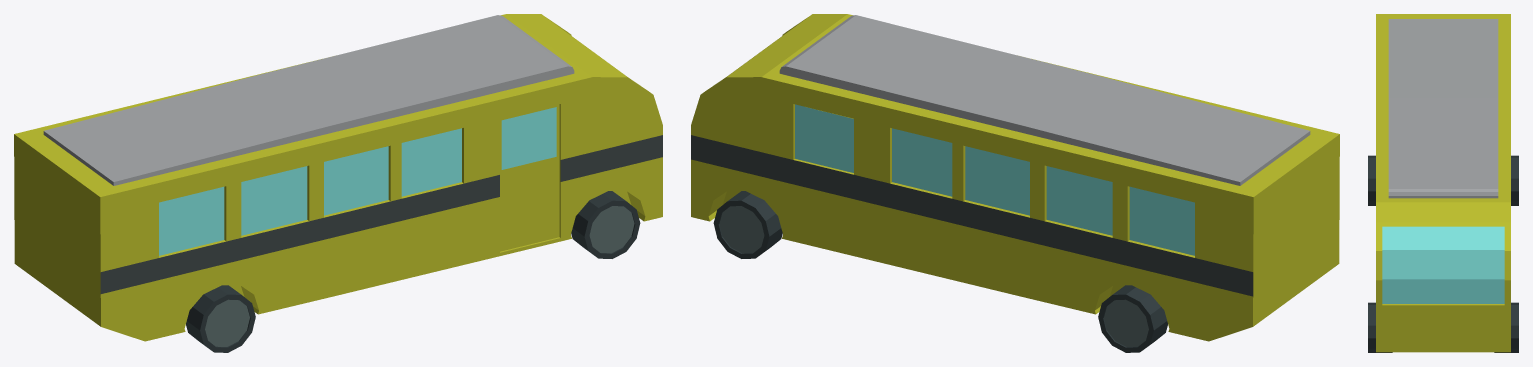
The model's file is onibus.fbx.
The picture shows the model from 3 angles, left to right: view 1: azimuth 30°, elevation 25°; view 2: azimuth 150°, elevation 25°; view 3: azimuth 270°, elevation 25°; orthographic projection. The views are drawn at different scales.
Parts seen in each view (by area): view 1: Cube, Cylinder.001; view 2: Cube, Cylinder.001; view 3: Cube, Cylinder.001.
Boxes of the visible parts, box(x1,y1,x2,y2) form: Cube: box(14, 14, 662, 341); Cylinder.001: box(186, 191, 640, 352); Cube: box(691, 14, 1339, 341); Cylinder.001: box(713, 191, 1167, 352); Cube: box(1376, 14, 1510, 352); Cylinder.001: box(1368, 155, 1518, 352).
Size of the model in its own units: 750 by 243 by 222.
